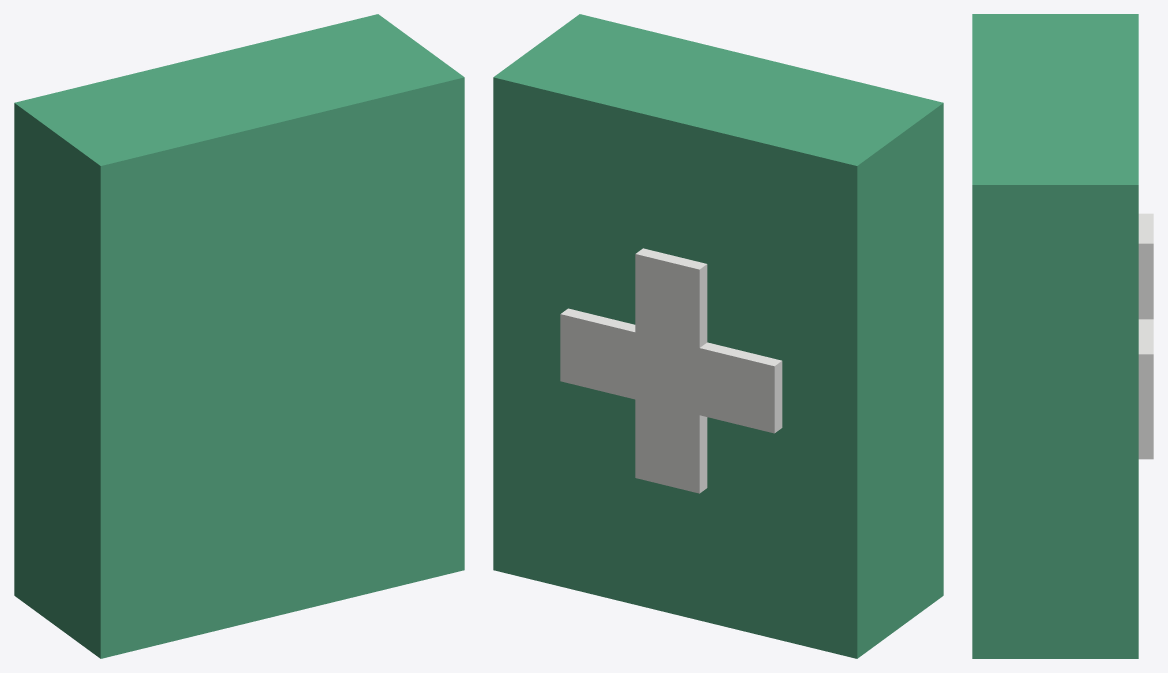
File: first_aid_cabinet-PRIM-001.glb
3 renders of one model, left to right at view 1: azimuth 30°, elevation 25°; view 2: azimuth 150°, elevation 25°; view 3: azimuth 270°, elevation 25°, orthographic. The views are drawn at different scales.
Visible parts, largest first — view 1: p0; view 2: p0, p2, p1; view 3: p0, p2, p1.
Part boxes in pixels (<box>): p0: <box>14,14,464,658</box>; p0: <box>493,14,943,658</box>; p2: <box>635,248,707,493</box>; p1: <box>560,308,782,433</box>; p0: <box>972,14,1138,658</box>; p2: <box>1138,213,1153,459</box>; p1: <box>1138,319,1153,418</box>.
Size of the model in its own units: 0.34 by 0.44 by 0.1525.
